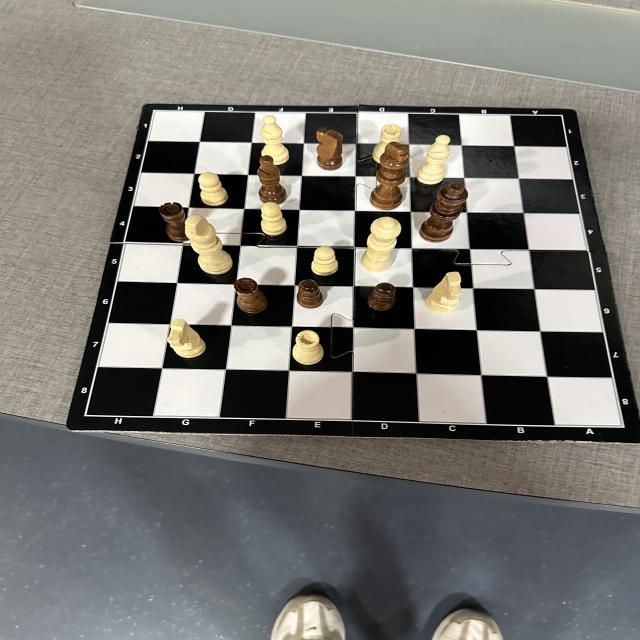Black-Bishop: (257, 155, 288, 205)
Black-King: (370, 142, 410, 210)
Black-Knight: (316, 128, 344, 171)
Black-Pawn: (367, 282, 396, 311), (297, 279, 325, 309)
Black-Queen: (419, 182, 468, 244)
Black-Rook: (234, 277, 269, 314), (159, 202, 189, 242)
White-Bishop: (417, 134, 451, 184), (260, 115, 290, 166)
White-King: (184, 214, 234, 275)
White-Knight: (166, 318, 208, 358), (426, 271, 463, 314)
White-Pawn: (198, 173, 228, 206), (261, 202, 287, 236), (311, 246, 339, 276)
White-Queen: (361, 217, 401, 272)
White-Rook: (372, 125, 402, 164), (292, 330, 324, 365)
